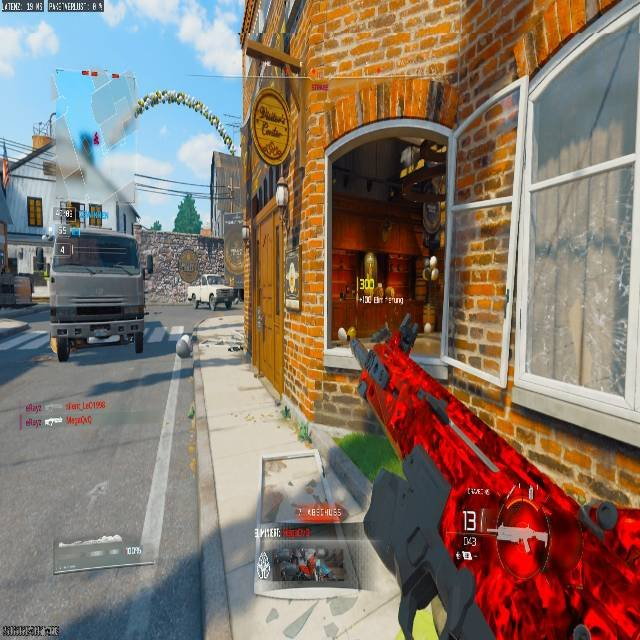player: (208, 291, 216, 310)
